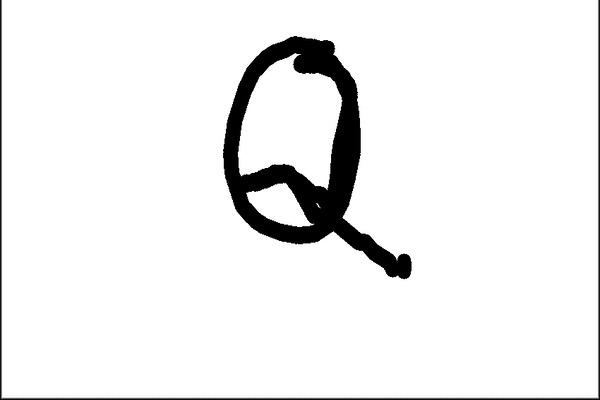Q: (206, 26, 422, 294)
